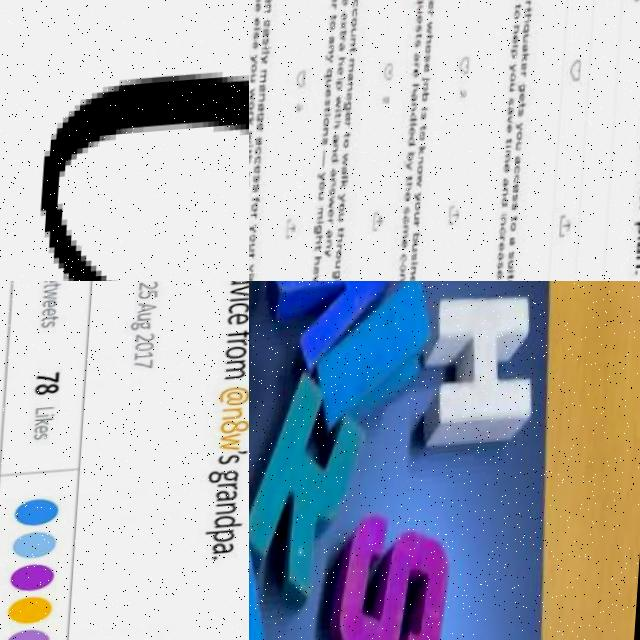1: (140, 294, 159, 303)
2: (389, 99, 396, 107), (466, 94, 472, 102)
3: (38, 374, 63, 386), (136, 363, 157, 372), (302, 105, 308, 114)
4: (223, 425, 249, 438), (37, 386, 62, 397)
A: (339, 135, 346, 146), (509, 183, 516, 192), (334, 232, 341, 241), (268, 29, 275, 38), (264, 104, 271, 113), (262, 137, 269, 146), (527, 50, 534, 58), (521, 161, 528, 169), (517, 242, 524, 250), (505, 258, 512, 266), (410, 219, 417, 227), (333, 38, 340, 46), (321, 268, 328, 276), (513, 111, 519, 120), (348, 168, 354, 177), (338, 170, 344, 179), (419, 57, 425, 65), (417, 97, 423, 105), (353, 76, 359, 84), (352, 94, 358, 102), (344, 45, 350, 53), (266, 85, 272, 93), (529, 0, 536, 4), (269, 0, 276, 4)
B: (414, 155, 421, 166), (429, 96, 436, 105), (421, 237, 428, 245)
C: (520, 179, 527, 189), (357, 0, 363, 11), (262, 156, 268, 167), (356, 11, 363, 20), (408, 258, 415, 266), (262, 147, 268, 156), (521, 172, 527, 180), (507, 232, 513, 240)
D: (510, 203, 517, 211), (415, 141, 422, 149), (339, 155, 345, 164), (417, 116, 423, 124), (519, 0, 526, 3)
E: (335, 211, 342, 221), (432, 3, 438, 14), (269, 20, 276, 29), (526, 68, 533, 76), (411, 195, 418, 203), (517, 40, 523, 49), (506, 248, 512, 257), (429, 67, 435, 76), (351, 114, 357, 123), (346, 14, 352, 23), (343, 69, 349, 78), (264, 124, 270, 133), (261, 166, 267, 175), (525, 99, 531, 107), (520, 189, 526, 197), (512, 130, 518, 138), (510, 169, 516, 177), (421, 19, 427, 27), (418, 73, 424, 81), (415, 131, 421, 139), (409, 244, 415, 252), (331, 91, 337, 99), (260, 4, 266, 12), (259, 19, 265, 27), (257, 42, 263, 50), (346, 0, 352, 7), (504, 275, 510, 281), (249, 253, 252, 263), (335, 0, 342, 4)
F: (261, 198, 267, 204)
G: (25, 41, 249, 281), (524, 88, 531, 97), (350, 104, 357, 113), (341, 272, 348, 281), (323, 228, 329, 236), (264, 114, 270, 122), (431, 0, 438, 5)
H: (423, 281, 548, 487), (530, 19, 537, 28), (418, 87, 425, 96), (323, 238, 330, 246), (322, 259, 329, 267), (518, 30, 524, 39), (432, 39, 438, 48), (341, 122, 347, 131), (345, 237, 351, 245), (344, 60, 350, 68), (253, 156, 259, 164), (413, 186, 419, 194)
I: (253, 144, 260, 148), (269, 47, 275, 51), (257, 274, 263, 278), (517, 276, 523, 279), (512, 150, 518, 153), (428, 111, 434, 114), (420, 266, 426, 269), (341, 112, 347, 115), (330, 116, 336, 119), (325, 223, 331, 226), (249, 243, 254, 246), (510, 219, 516, 221)
J: (427, 79, 435, 85)
K: (527, 59, 534, 67), (348, 182, 354, 191), (426, 150, 432, 158), (255, 119, 261, 125)
L: (416, 126, 422, 130), (348, 178, 354, 182), (517, 50, 523, 53), (343, 79, 349, 82), (269, 52, 275, 55), (260, 28, 266, 31)
M: (510, 154, 517, 168), (409, 228, 416, 242), (353, 60, 360, 74), (324, 208, 331, 222), (266, 70, 273, 84)
N: (352, 85, 359, 94), (265, 94, 272, 103), (418, 270, 424, 280), (329, 129, 335, 139), (416, 106, 423, 114), (250, 181, 257, 189), (509, 192, 515, 201), (508, 222, 514, 231), (339, 146, 345, 155), (334, 241, 340, 250), (270, 5, 276, 14), (424, 160, 430, 168), (355, 40, 361, 48), (337, 180, 343, 188), (333, 47, 339, 55), (407, 277, 413, 281)
O: (346, 204, 353, 215), (423, 169, 430, 178), (421, 205, 428, 214), (259, 204, 266, 213), (256, 64, 263, 73), (254, 101, 261, 110), (523, 136, 529, 146), (408, 266, 414, 276), (518, 228, 525, 236), (349, 142, 356, 150), (334, 24, 341, 32), (329, 120, 336, 128), (518, 15, 524, 24), (515, 79, 521, 88), (430, 49, 436, 58), (428, 86, 434, 95), (344, 252, 350, 261), (425, 136, 431, 144), (356, 20, 362, 28), (326, 185, 332, 193), (258, 235, 264, 243), (251, 171, 257, 179), (249, 203, 254, 212)
P: (516, 55, 522, 64), (341, 83, 347, 92), (637, 0, 640, 8)
Q: (528, 30, 535, 38), (331, 71, 337, 80), (421, 0, 427, 7)
R: (420, 225, 427, 232), (526, 77, 533, 83), (507, 241, 513, 248), (418, 66, 425, 72), (345, 38, 351, 45), (335, 5, 342, 11), (259, 214, 265, 221), (257, 254, 263, 261), (254, 111, 260, 118), (530, 6, 536, 12), (432, 14, 438, 20), (351, 124, 357, 130), (344, 246, 350, 252), (335, 221, 341, 227), (249, 224, 254, 230), (255, 278, 261, 281)
S: (324, 526, 466, 640), (328, 138, 335, 148), (426, 115, 433, 124), (260, 183, 267, 192), (524, 115, 531, 123), (519, 199, 526, 207), (519, 208, 526, 216), (429, 58, 436, 66), (420, 28, 427, 36), (419, 43, 426, 51), (330, 100, 337, 108), (514, 102, 520, 111), (337, 189, 343, 198), (268, 38, 274, 47), (517, 256, 523, 264), (505, 267, 511, 275), (419, 257, 425, 265), (411, 210, 417, 218), (258, 32, 264, 40), (261, 177, 267, 183), (249, 234, 253, 242), (608, 0, 615, 4)
T: (350, 134, 357, 141), (345, 229, 352, 236), (519, 8, 525, 15), (512, 143, 518, 150), (413, 179, 420, 185), (355, 49, 361, 56), (345, 31, 352, 37), (341, 114, 347, 121), (335, 16, 342, 22), (330, 108, 337, 114), (252, 149, 258, 156), (530, 13, 536, 19), (525, 108, 531, 114), (519, 221, 525, 227), (427, 129, 433, 135), (421, 36, 427, 42), (323, 246, 329, 252), (249, 247, 253, 254), (515, 278, 522, 281)
U: (514, 88, 521, 97), (419, 247, 426, 256), (355, 30, 362, 39), (343, 263, 350, 272), (421, 10, 428, 18), (331, 81, 338, 89), (325, 194, 332, 202), (257, 245, 264, 253), (421, 215, 427, 224), (346, 215, 352, 224), (528, 40, 534, 48), (523, 147, 529, 155), (516, 266, 522, 274), (256, 75, 262, 83), (249, 213, 254, 222)
V: (256, 265, 263, 274), (513, 121, 519, 130), (320, 277, 327, 281)
W: (336, 196, 343, 212), (255, 87, 262, 102), (348, 155, 355, 169), (341, 97, 348, 111), (423, 177, 429, 192), (253, 130, 259, 145), (431, 25, 437, 39)
X: (345, 23, 352, 32)
Y: (514, 69, 521, 78), (331, 57, 338, 66), (325, 174, 332, 183), (523, 127, 530, 135), (421, 196, 428, 204), (346, 196, 352, 205), (332, 251, 338, 260), (413, 166, 419, 174), (266, 56, 272, 64), (258, 225, 264, 233), (255, 55, 261, 63), (249, 194, 254, 203)
